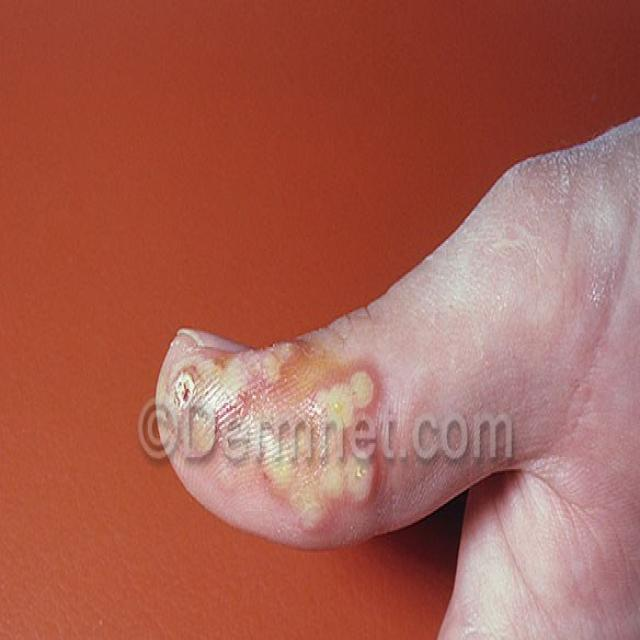Viral Infections: (160, 321, 396, 547)
